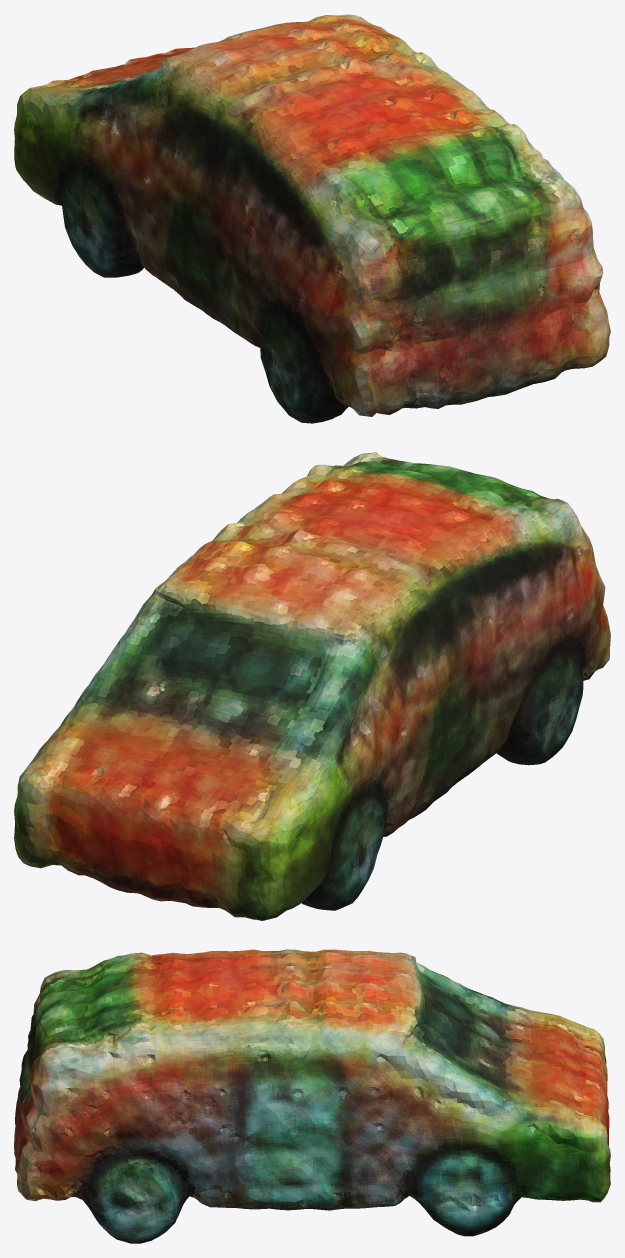
The model's file is a car made of sushi.glb.
The picture shows the model from 3 angles, top to bottom: view 1: azimuth 30°, elevation 25°; view 2: azimuth 150°, elevation 25°; view 3: azimuth 270°, elevation 25°; orthographic projection. The views are drawn at different scales.
Size of the model in its own units: 0.4588 by 0.4023 by 0.9793.
1 material, 1 textured.
